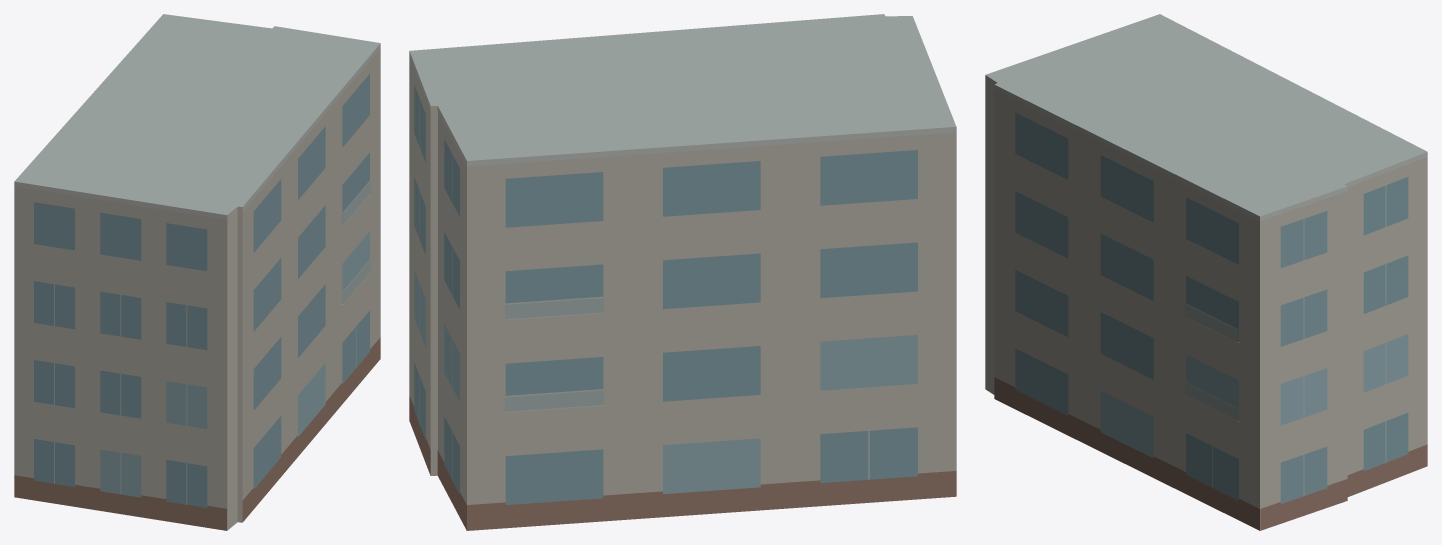
File: survey-upis-32822562.glb
3 renders of one model, left to right at view 1: azimuth 30°, elevation 25°; view 2: azimuth 150°, elevation 25°; view 3: azimuth 270°, elevation 25°, orthographic. The views are drawn at different scales.
Visible parts, largest first — view 1: survey-upis-32822562.tmp; view 2: survey-upis-32822562.tmp; view 3: survey-upis-32822562.tmp.
Boxes of the visible parts, x1,y1,x2,y2 form: survey-upis-32822562.tmp: (14, 14, 380, 530); survey-upis-32822562.tmp: (409, 14, 956, 530); survey-upis-32822562.tmp: (985, 14, 1427, 530).
Size of the model in its own units: 22.11 by 16 by 20.42.
